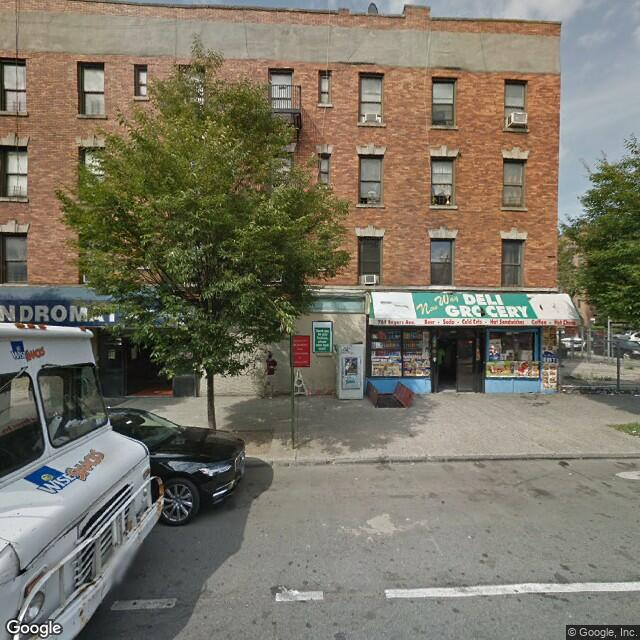litter: (277, 586, 305, 598), (609, 389, 618, 399), (632, 428, 637, 436), (637, 391, 640, 397), (563, 387, 567, 391)
